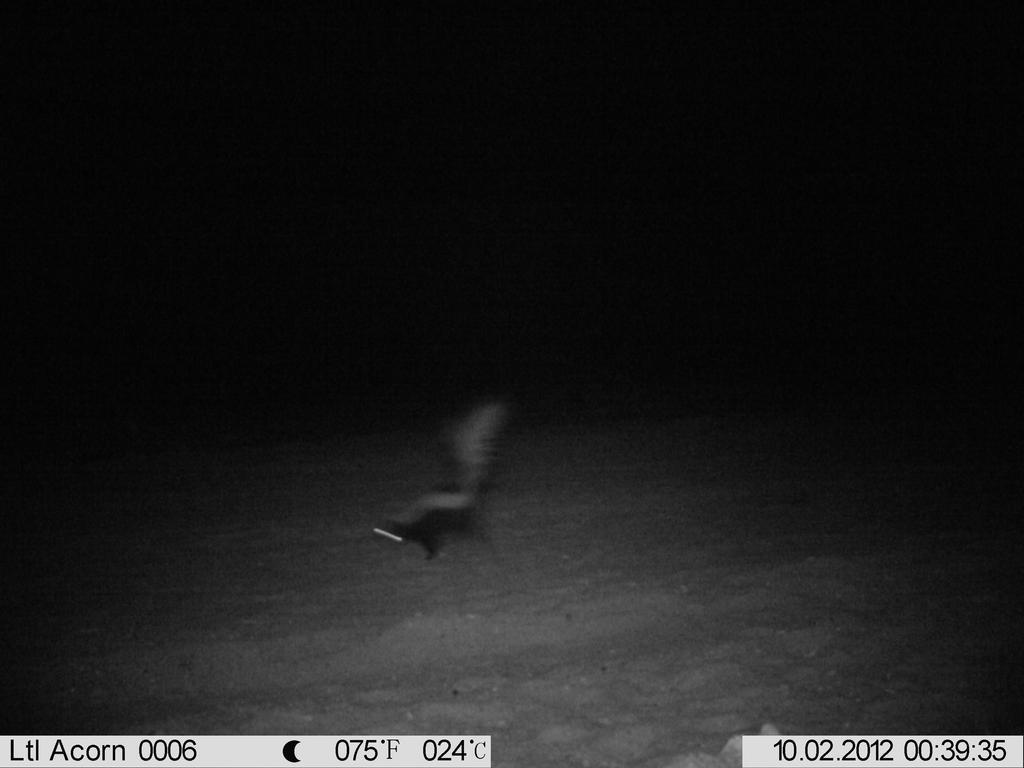skunk: (367, 395, 517, 577)
